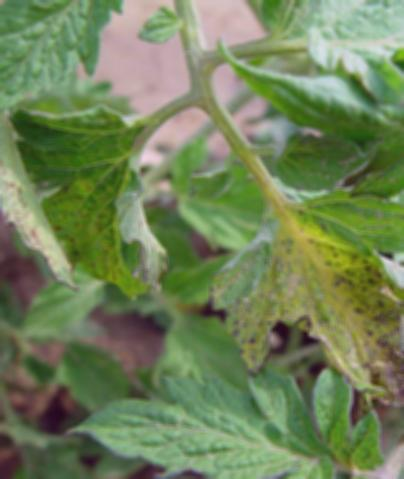Tomato leaf bacterial spot: (209, 172, 404, 416), (0, 76, 184, 334), (68, 351, 401, 479)
